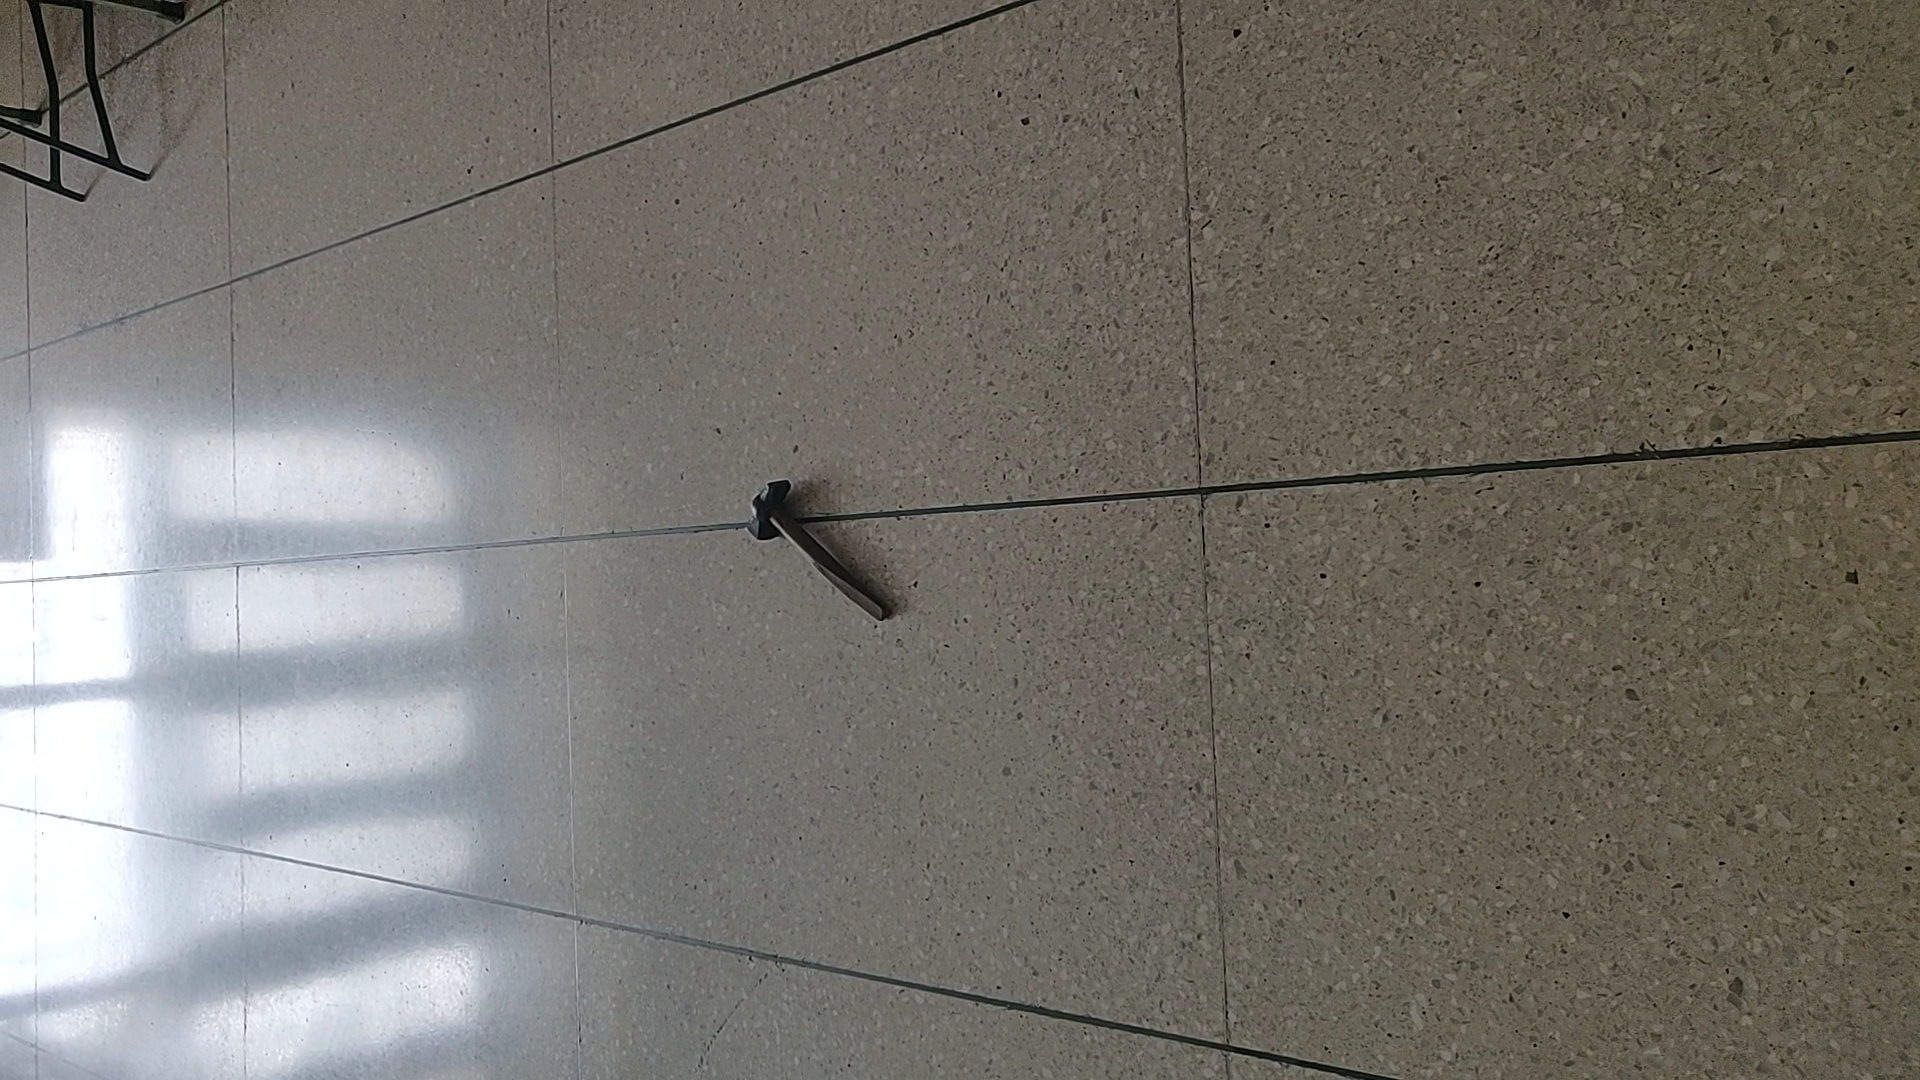hammer: (745, 477, 887, 626)
